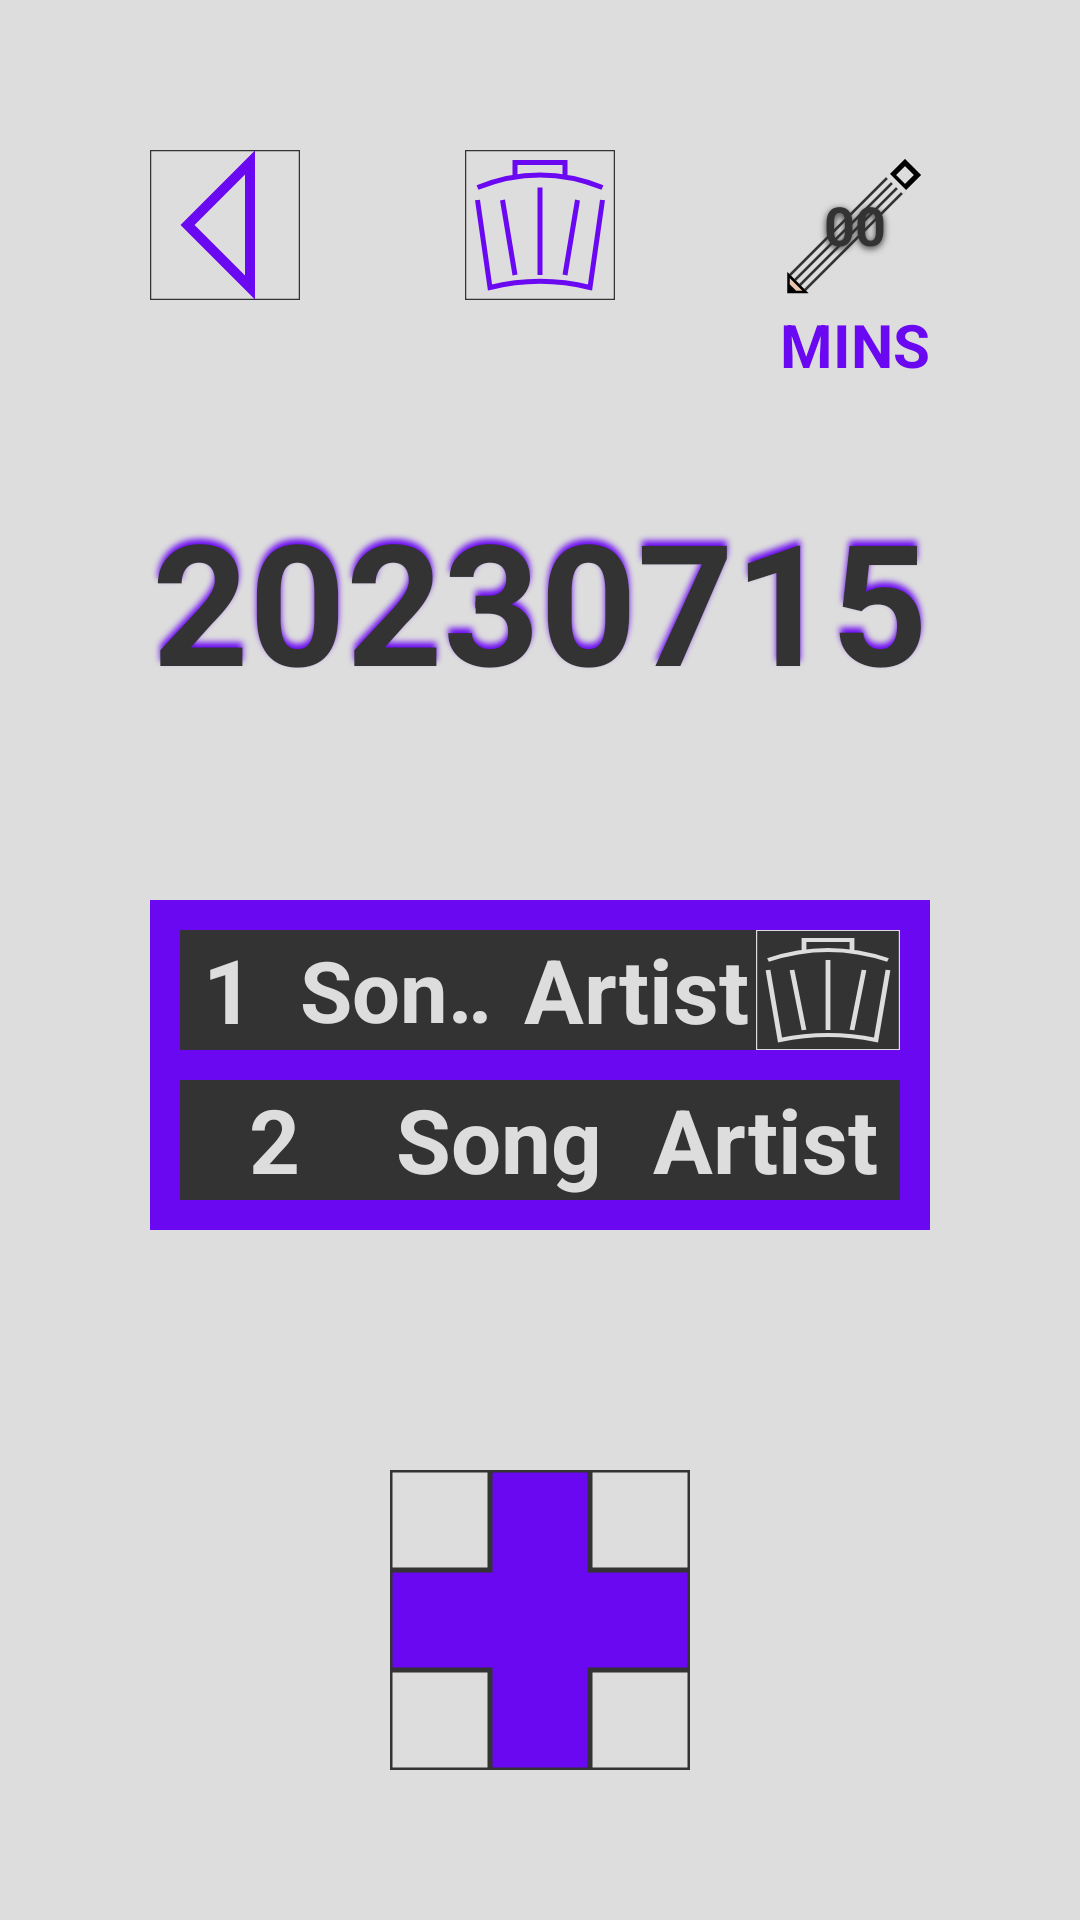

Locate icon controls on the screen. Image size 1080w x 1920h, boxes as [x1=x1, y1=y1, x2=x2, y2=y2].
bin: [x1=465, y1=150, x2=615, y2=300], [x1=756, y1=930, x2=900, y2=1050]
plus: [x1=390, y1=1470, x2=690, y2=1770]
